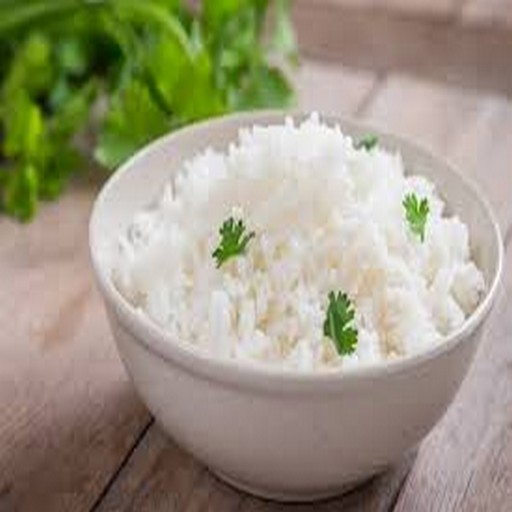rice: (234, 143, 375, 353)
